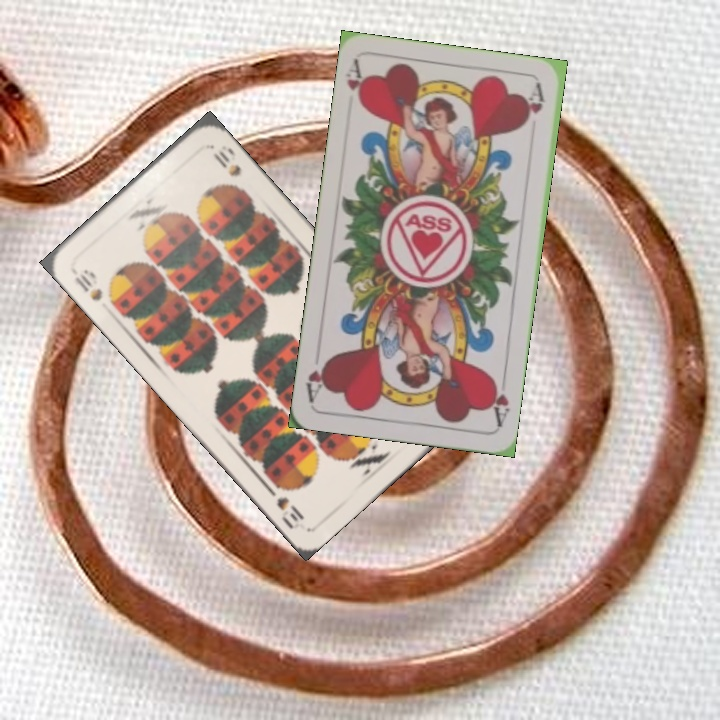HA: (485, 370, 512, 429), (342, 57, 369, 110)
S10: (70, 265, 105, 304)
